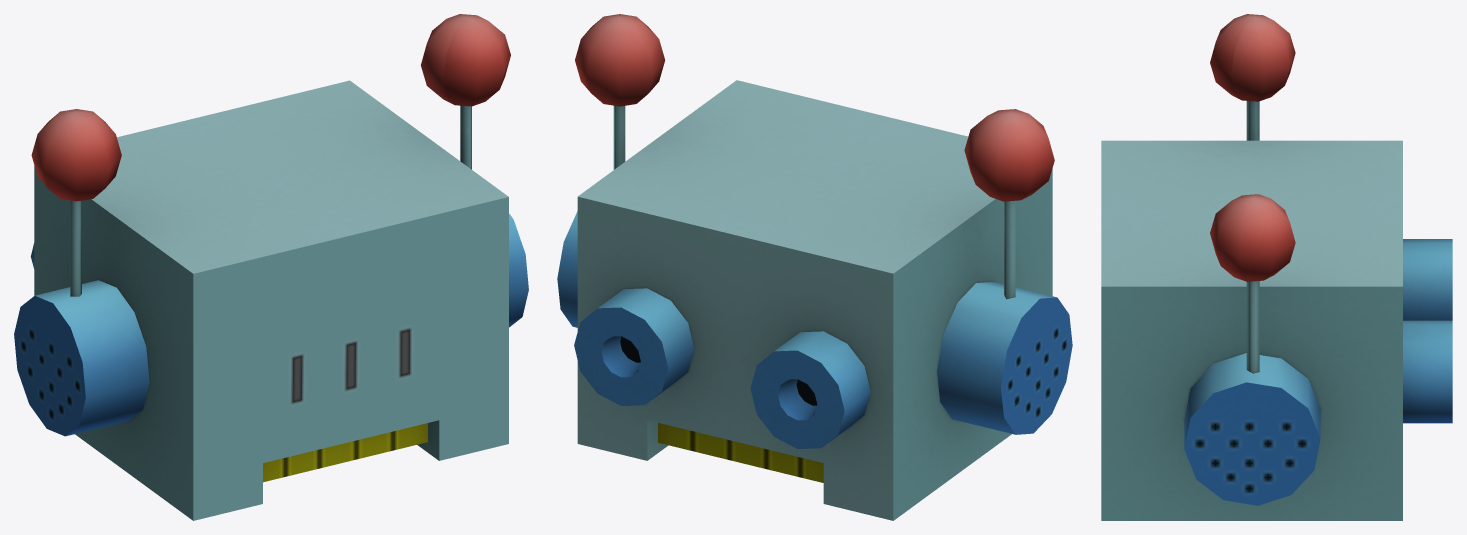
Rendered from head.glb.
3 renders of one model, left to right at view 1: azimuth 30°, elevation 25°; view 2: azimuth 150°, elevation 25°; view 3: azimuth 270°, elevation 25°, orthographic. The views are drawn at different scales.
Parts seen in each view (by area): view 1: Robot002_mesh; view 2: Robot002_mesh; view 3: Robot002_mesh.
Part boxes in pixels (x1,y1,x2,y2): Robot002_mesh: [14, 14, 528, 520]; Robot002_mesh: [557, 14, 1072, 520]; Robot002_mesh: [1101, 14, 1452, 520].
Bounding box in the file's own units: 0.731 × 0.5359 × 0.5015.
1 material, 1 textured.
